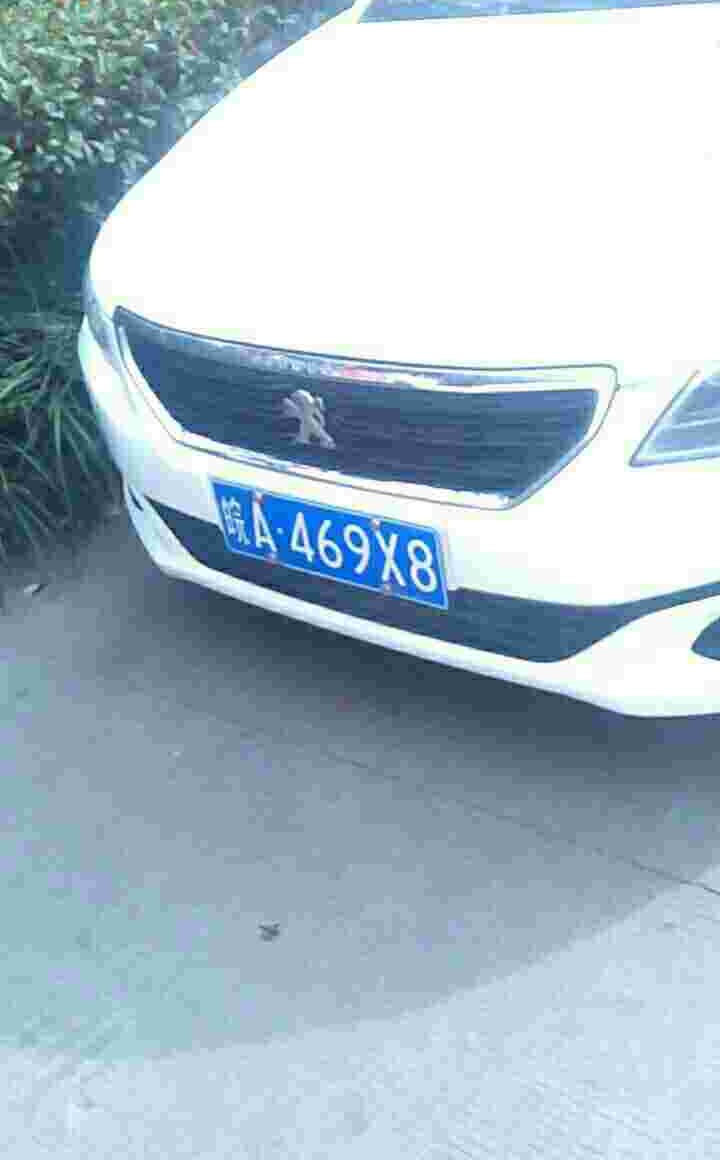license_plate: (220, 483, 457, 615)
